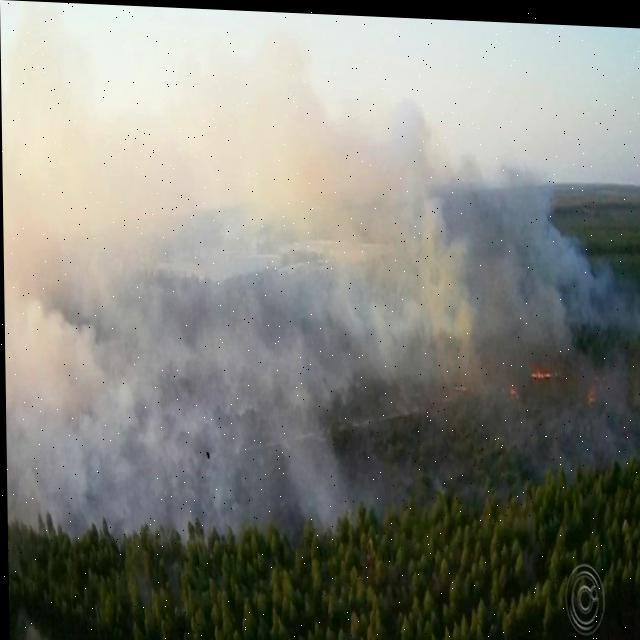Fire: (530, 364, 550, 376)
